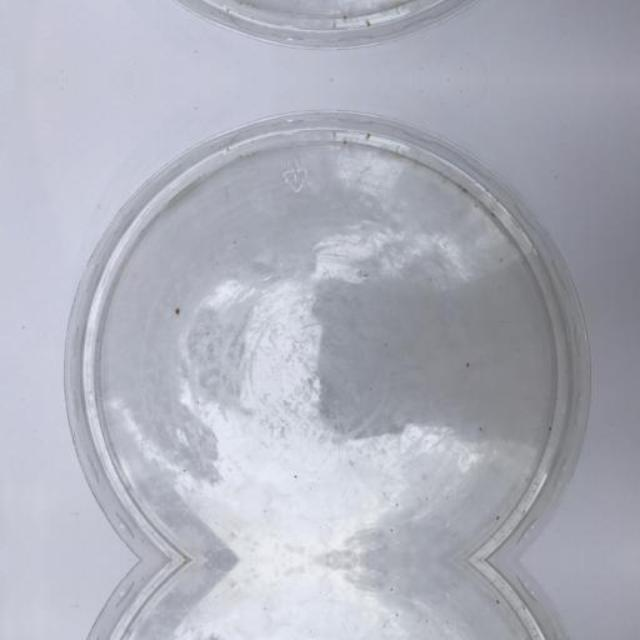Plastic: (60, 108, 590, 560), (60, 560, 590, 640), (60, 0, 590, 51)
